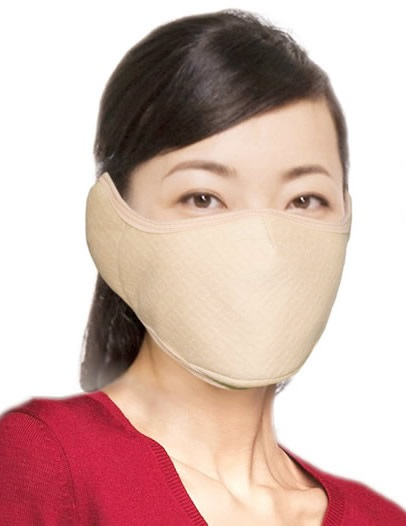face_mask: (134, 93, 347, 387)
